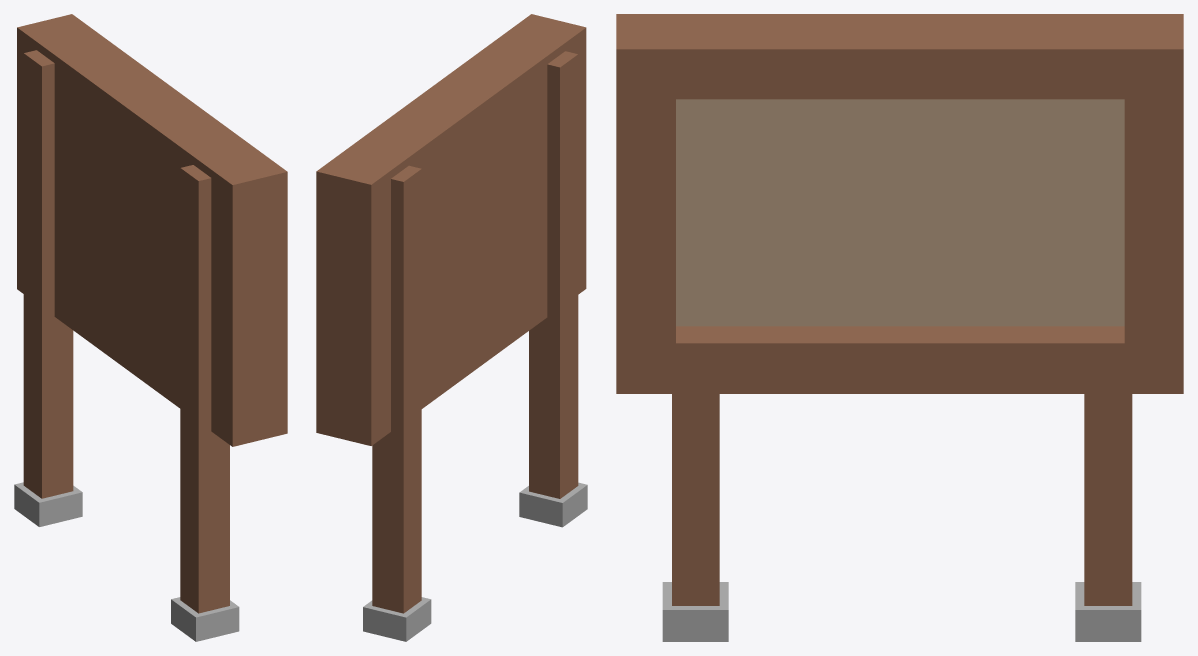
Rendered from tr_notice_board_v2.fbx.
3 views of the same model, side by side, from view 1: azimuth 30°, elevation 25°; view 2: azimuth 150°, elevation 25°; view 3: azimuth 270°, elevation 25° (orthographic). The views are drawn at different scales.
Visible parts, largest first — view 1: Cube; view 2: Cube; view 3: Cube.
Part boxes in pixels (box(x1,y1,x2,y2)): Cube: box(14, 14, 287, 641); Cube: box(316, 14, 587, 641); Cube: box(616, 14, 1183, 641).
Size of the model in its own units: 141 by 850 by 714.
